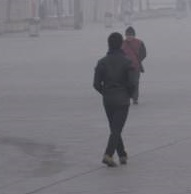person: (93, 30, 135, 168), (123, 25, 148, 105)
